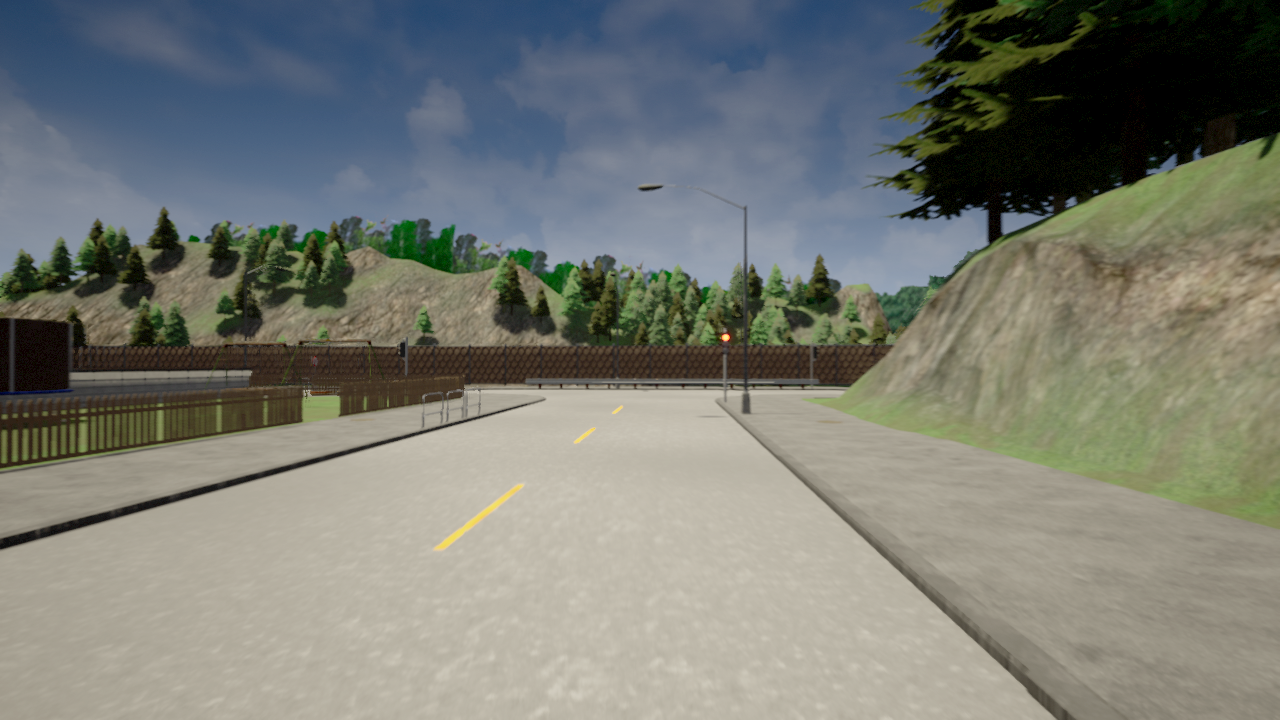red: (720, 331, 732, 357)
